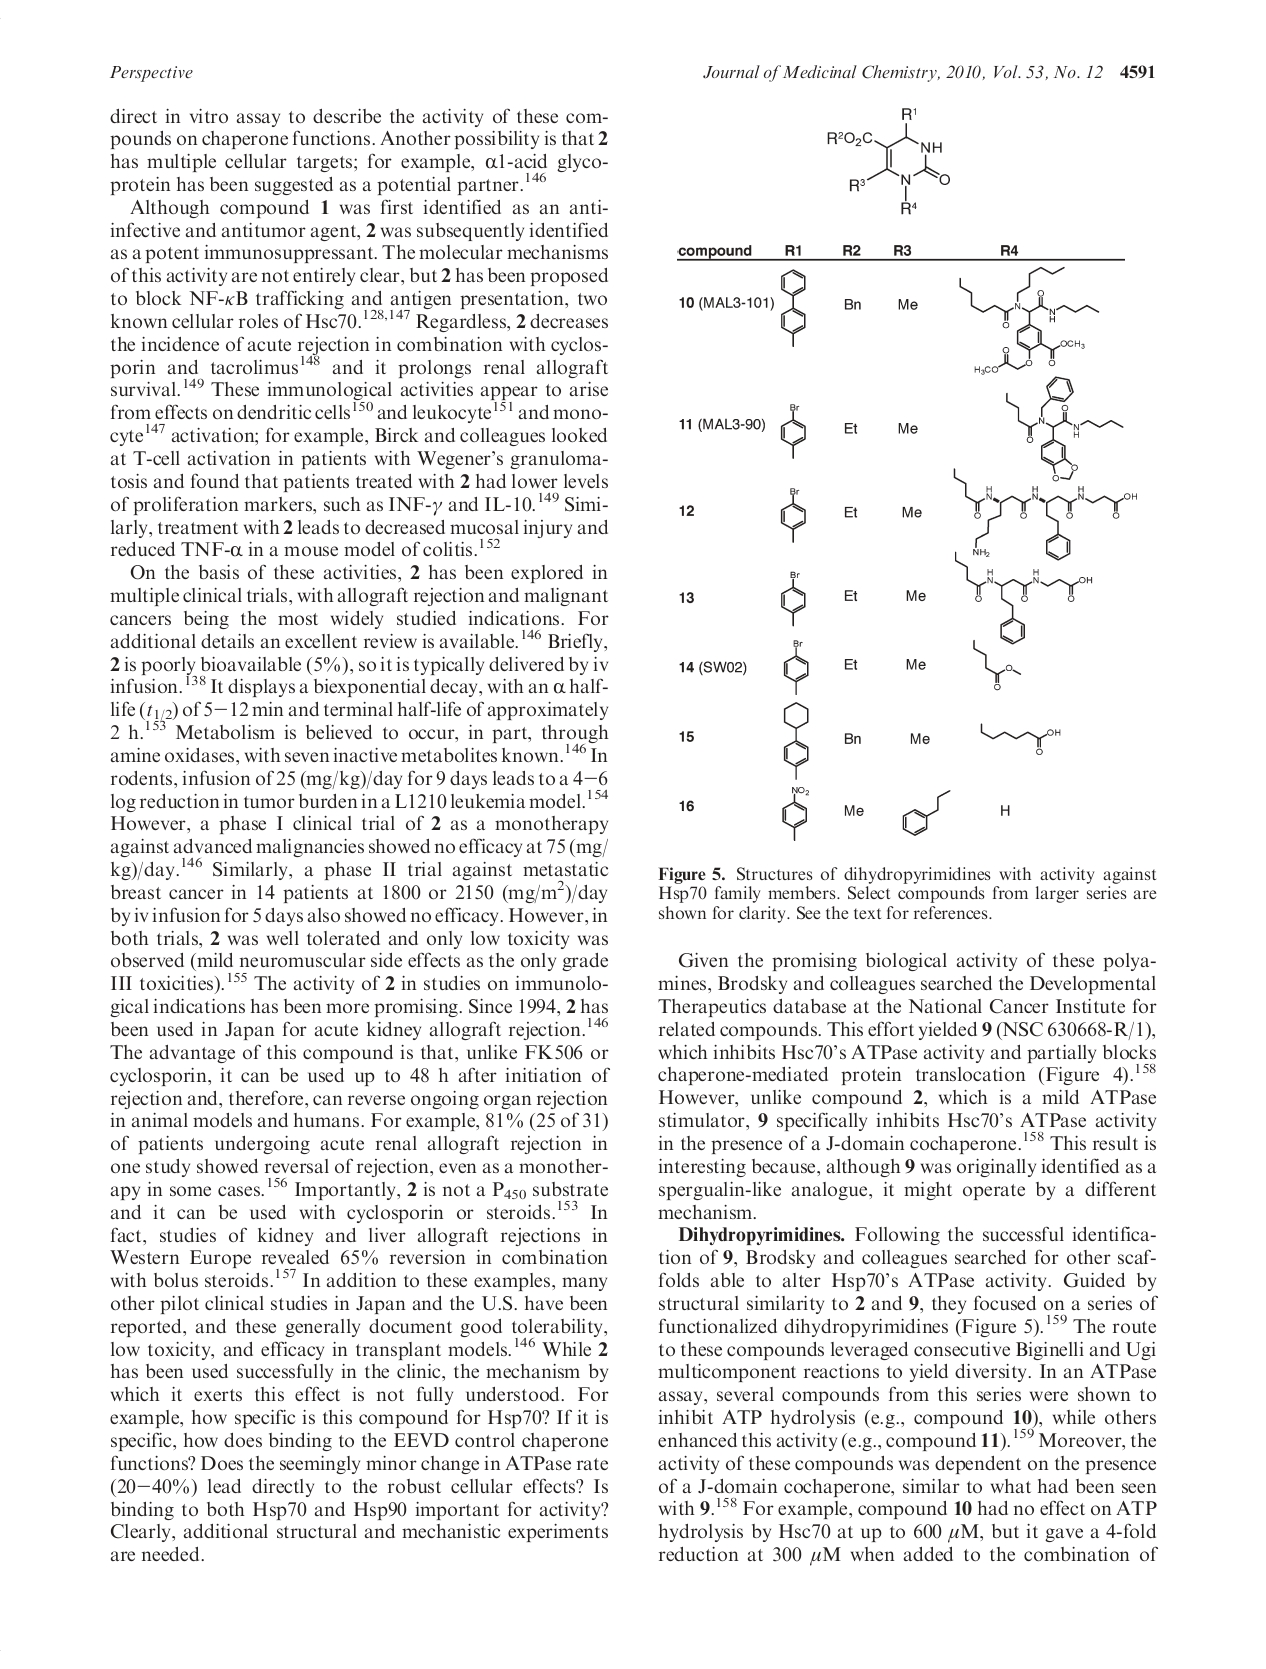exist_molecular: (938, 465, 1146, 561), (977, 375, 1136, 488), (938, 553, 1110, 648), (955, 267, 1102, 375), (824, 105, 951, 218), (951, 640, 1032, 704), (965, 719, 1076, 763), (894, 779, 965, 844), (773, 702, 823, 785), (765, 477, 818, 551), (777, 265, 815, 346), (774, 398, 815, 460), (773, 634, 813, 696), (779, 779, 815, 846), (777, 568, 813, 633)
